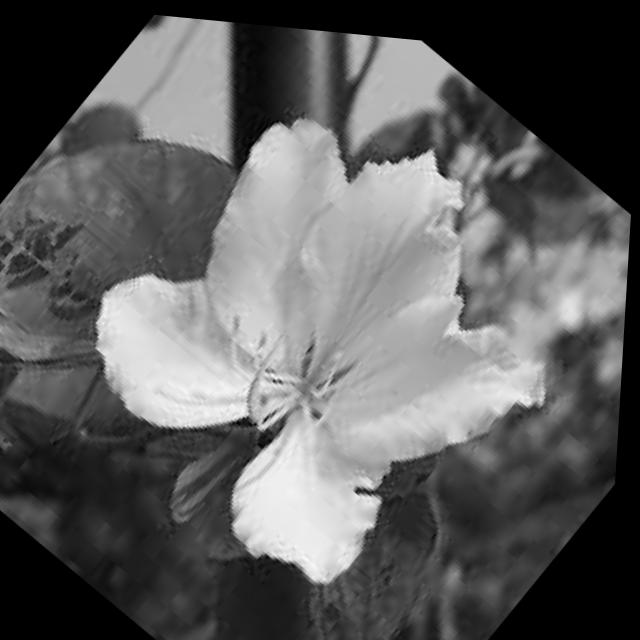Flower: (41, 23, 615, 628)
